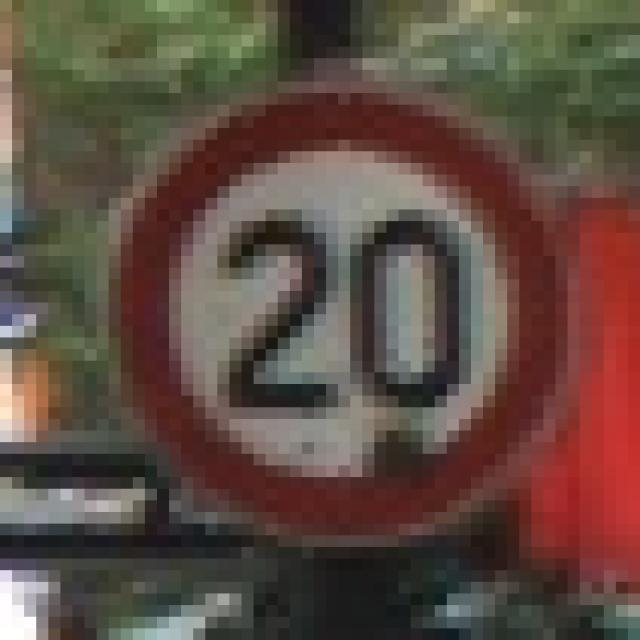Speed Limit -20-: (72, 70, 580, 582)
